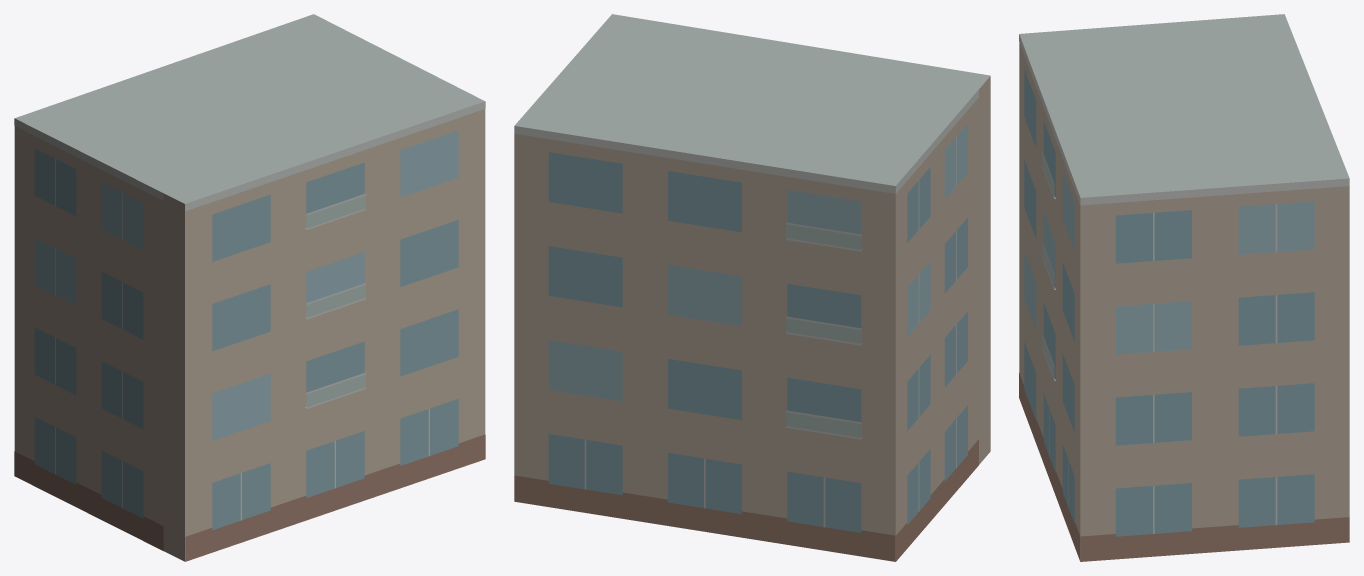
File: survey-upis-32576364.glb
3 views of the same model, side by side, from view 1: azimuth 30°, elevation 25°; view 2: azimuth 150°, elevation 25°; view 3: azimuth 270°, elevation 25° (orthographic). The views are drawn at different scales.
Visible parts, largest first — view 1: survey-upis-32576364.tmp; view 2: survey-upis-32576364.tmp; view 3: survey-upis-32576364.tmp.
Boxes of the visible parts, x1,y1,x2,y2 form: survey-upis-32576364.tmp: [14, 14, 485, 561]; survey-upis-32576364.tmp: [514, 14, 990, 561]; survey-upis-32576364.tmp: [1019, 14, 1349, 561].
Size of the model in its own units: 12.69 by 11.7 by 9.64.
